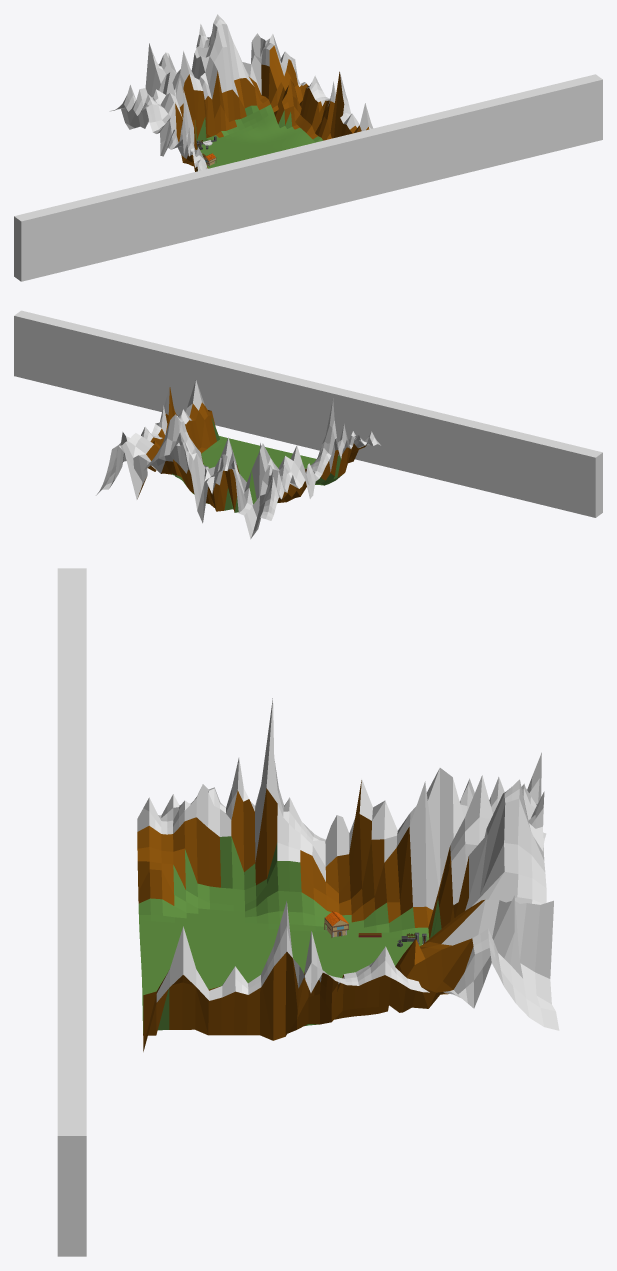
The picture shows the model from 3 angles, top to bottom: view 1: azimuth 30°, elevation 25°; view 2: azimuth 150°, elevation 25°; view 3: azimuth 270°, elevation 25°; orthographic projection. The views are drawn at different scales.
Visible parts, largest first — view 1: Cube.001, Terrain.001; view 2: Cube.001, Terrain.001; view 3: Terrain.001, Cube.001.
Part boxes in pixels (left/top/right/bottom): Cube.001: left=14, top=74, right=602, bottom=281; Terrain.001: left=109, top=14, right=373, bottom=171; Cube.001: left=14, top=310, right=602, bottom=517; Terrain.001: left=96, top=380, right=380, bottom=539; Terrain.001: left=137, top=698, right=559, bottom=1051; Cube.001: left=57, top=568, right=86, bottom=1256.
Bounding box in the file's own units: 102 × 17.89 × 38.01.
